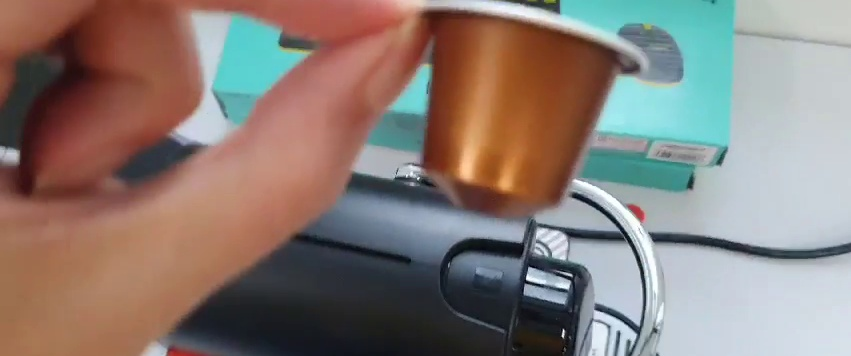capsule_3: (414, 1, 652, 221)
